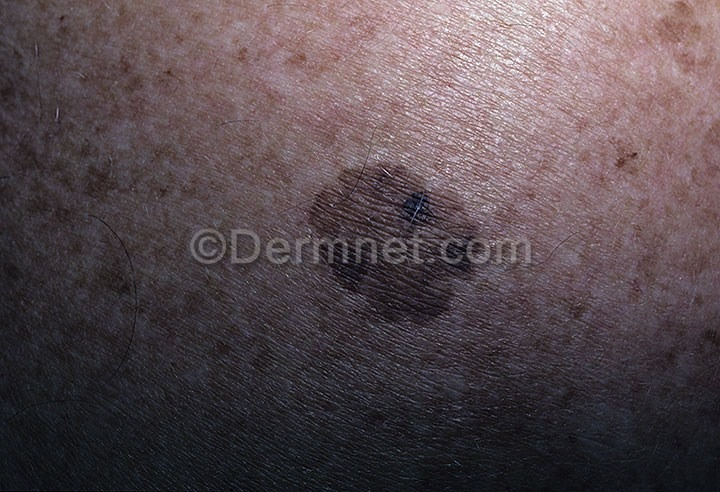Melasma: (0, 0, 189, 331), (309, 262, 518, 356), (293, 145, 489, 240)
